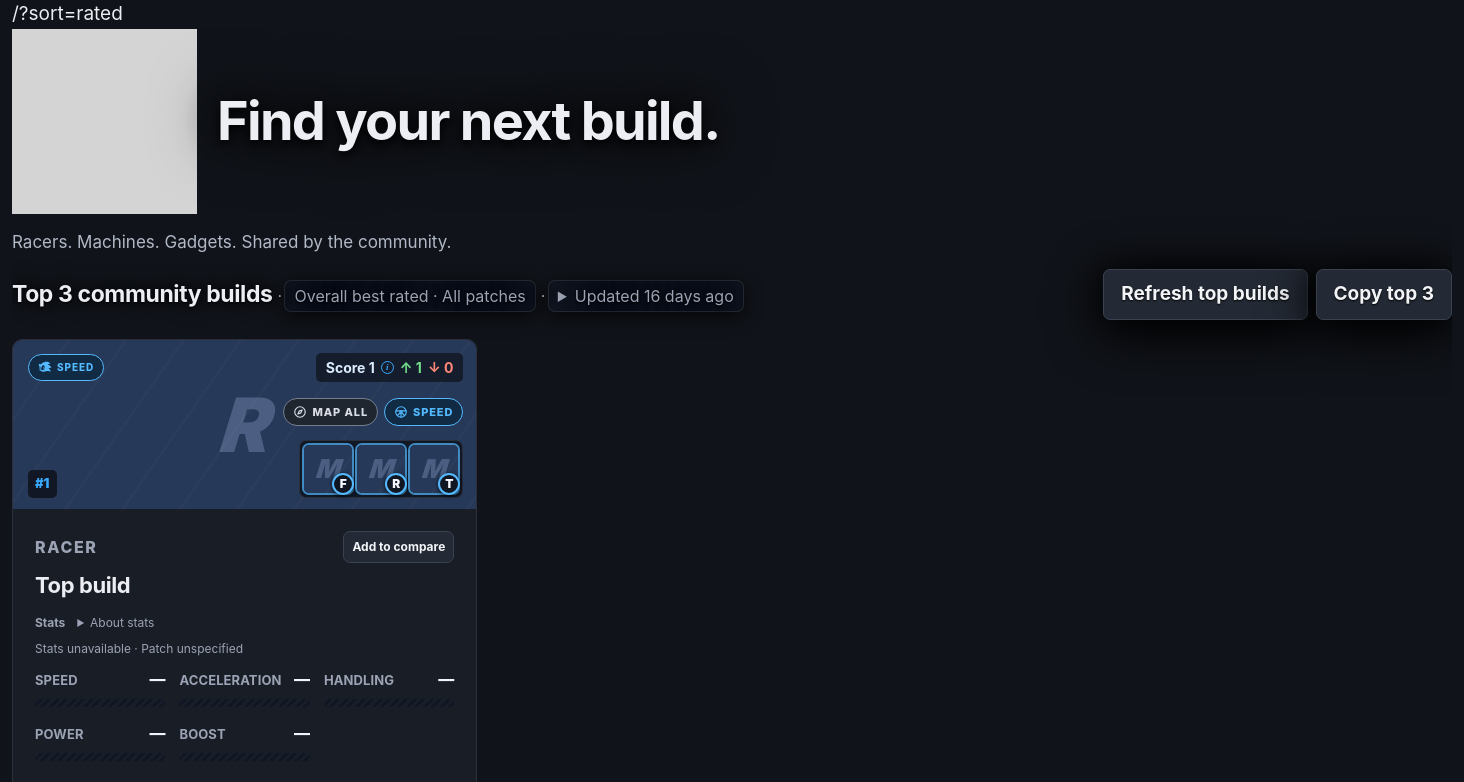
it: retains missing and temporarily unavailable selections with distinct explanations and retry
expect the link "Top build" is shown: met, box [35,572,130,598]
What coordinates should you click on to do the following:
click the button with aria-label "Compare Top build"
I would click on:
 (399, 546)
Its box is [343,530,454,562].
(page scrolled)
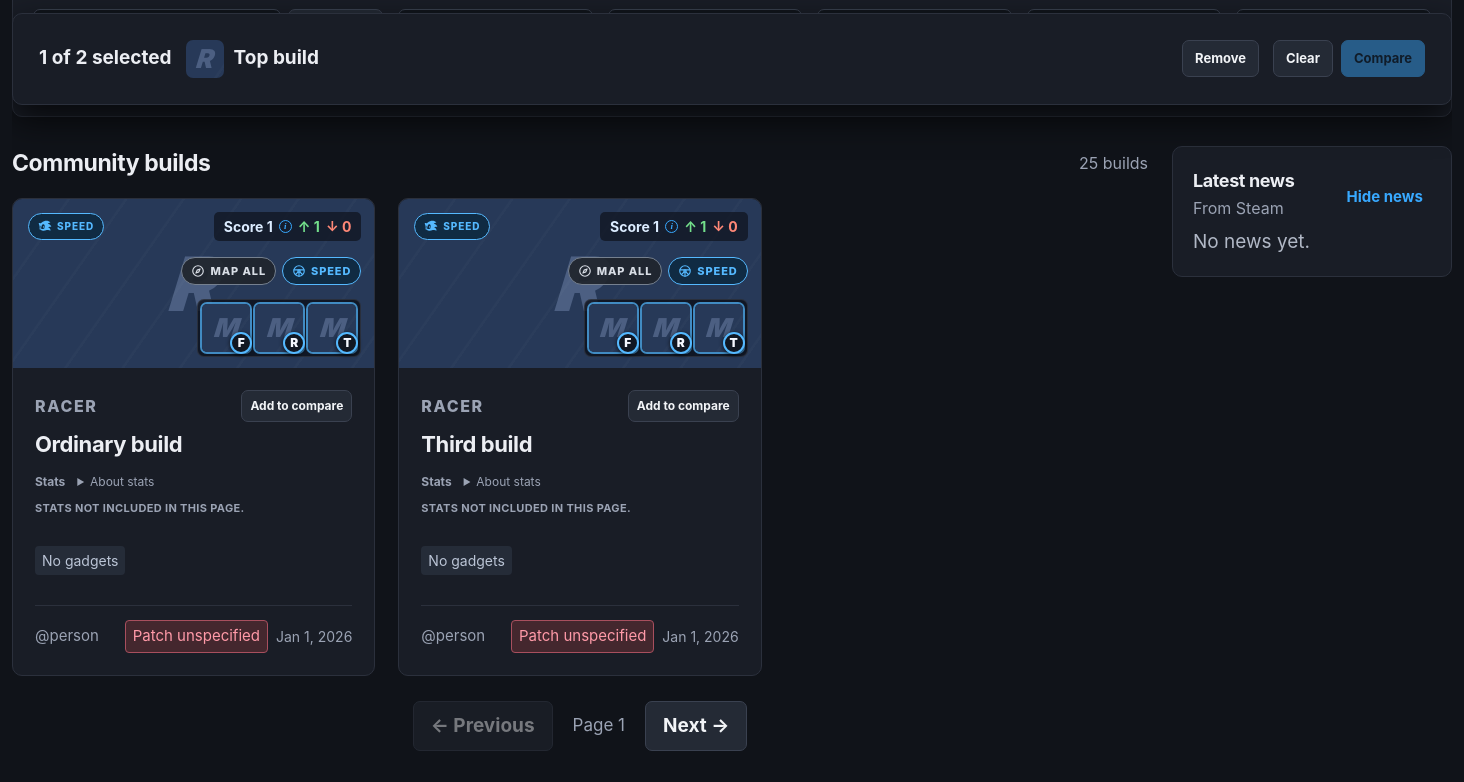
What coordinates should you click on to do the following:
click the button with aria-label "Compare Ordinary build"
I would click on:
 (297, 406)
Its box is [241,390,352,422].
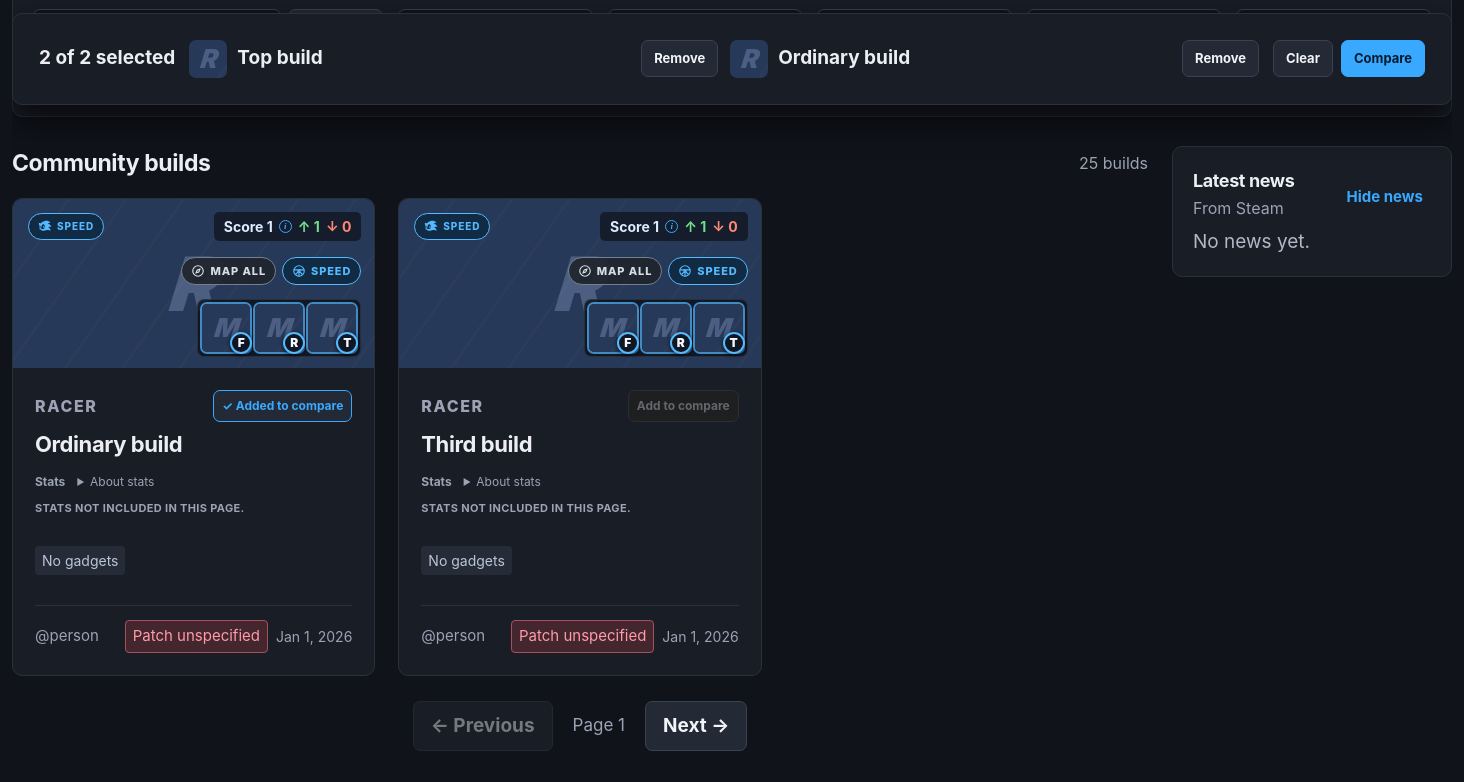
What coordinates should you click on to do the following:
click the button "Compare"
I would click on:
 (1383, 58)
Its box is [1341,39,1425,77].
(page scrolled)
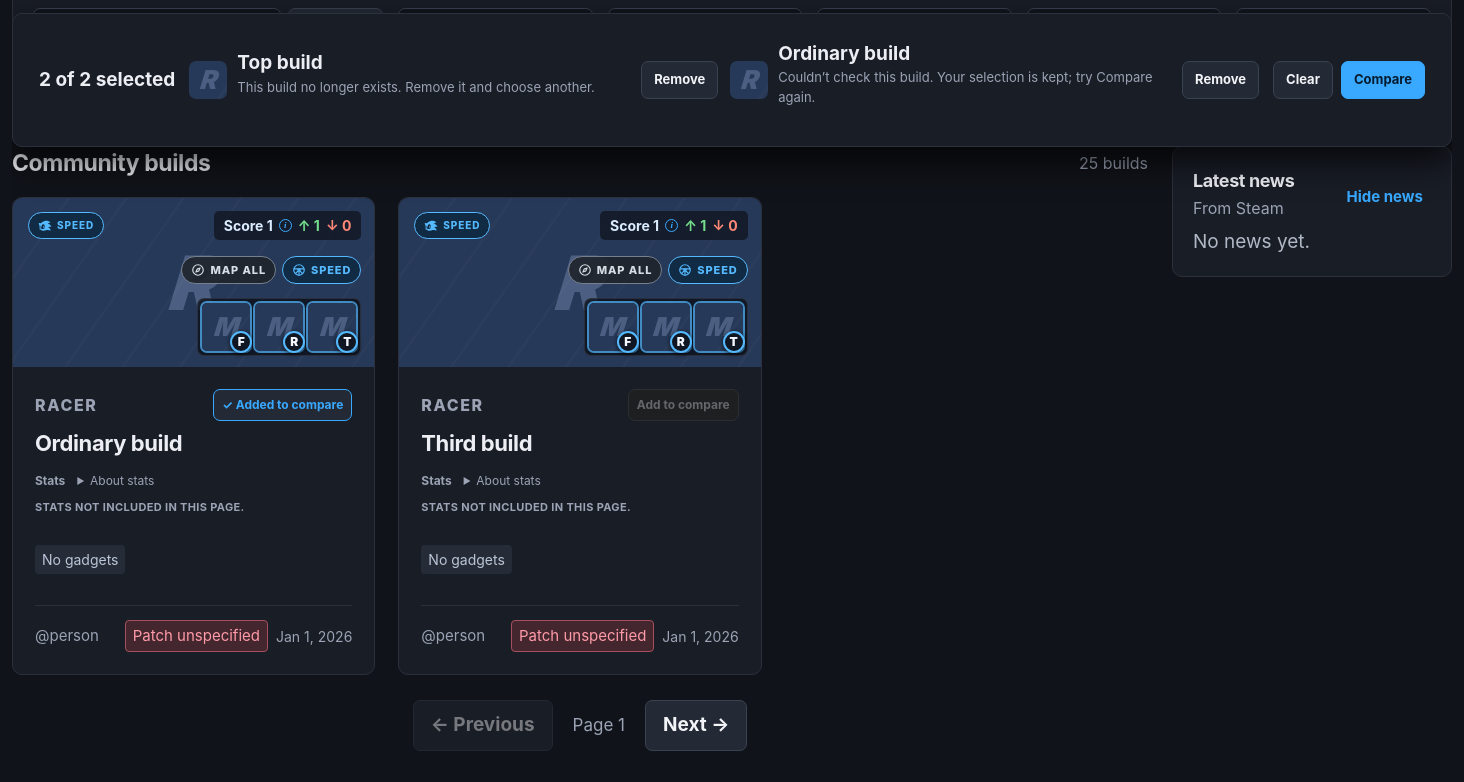
expect the text "This build no longer exists. Remove it and choose another." is shown: met, box [237,77,631,97]
expect the text "Couldn’t check this build. Your selection is kept; try Compare again." is shown: met, box [778,68,1172,106]
What coordinates should you click on to do the following:
click the button "Compare"
I would click on:
 (1383, 79)
Its box is [1341,60,1425,98].
(page scrolled)
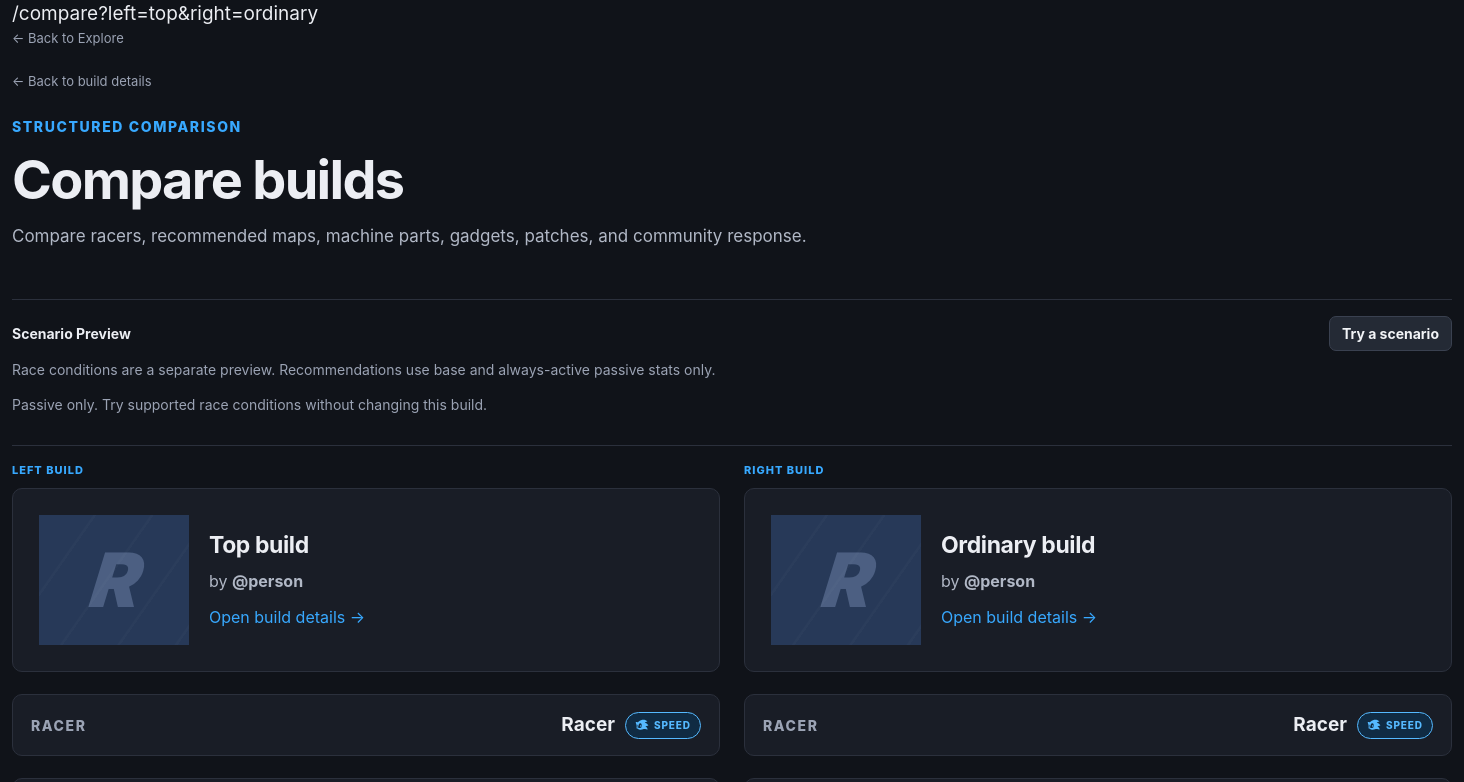
expect the heading "Compare builds" is shown: met, box [12,146,403,212]
